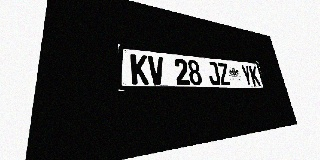2: (174, 58, 190, 85)
8: (187, 59, 202, 85)
J: (206, 61, 221, 85)
K: (130, 54, 149, 84), (248, 65, 261, 86)
V: (148, 55, 165, 85)
Y: (240, 65, 253, 86)
Z: (217, 62, 231, 85)
